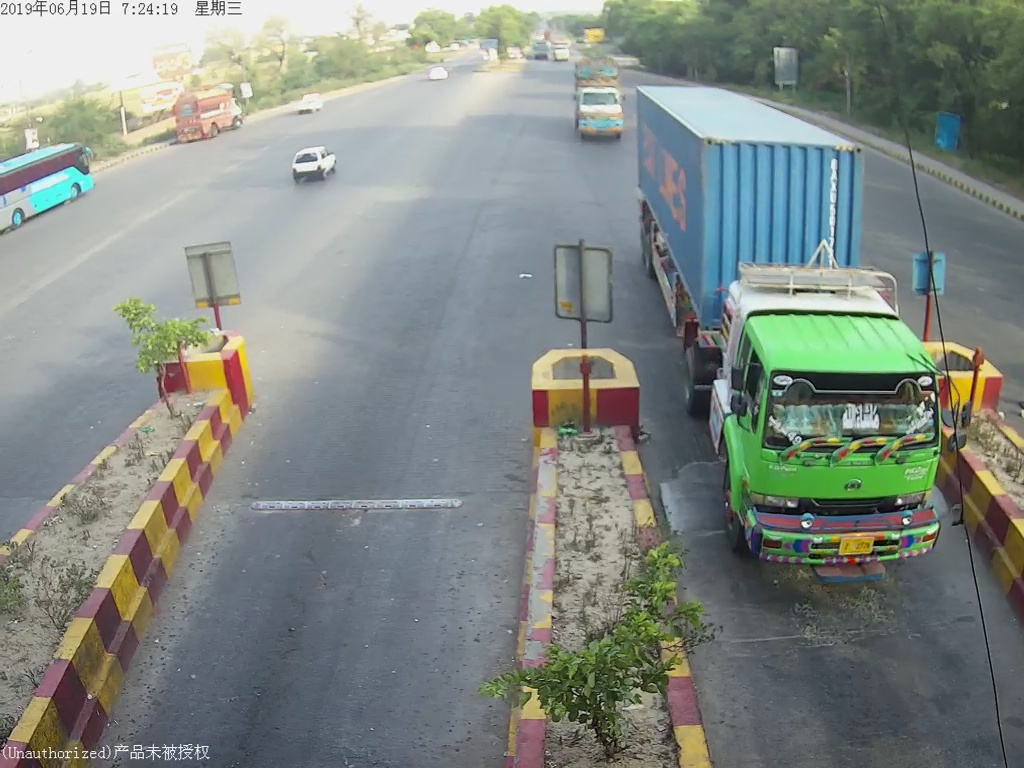Cat-5: (639, 86, 965, 576)
